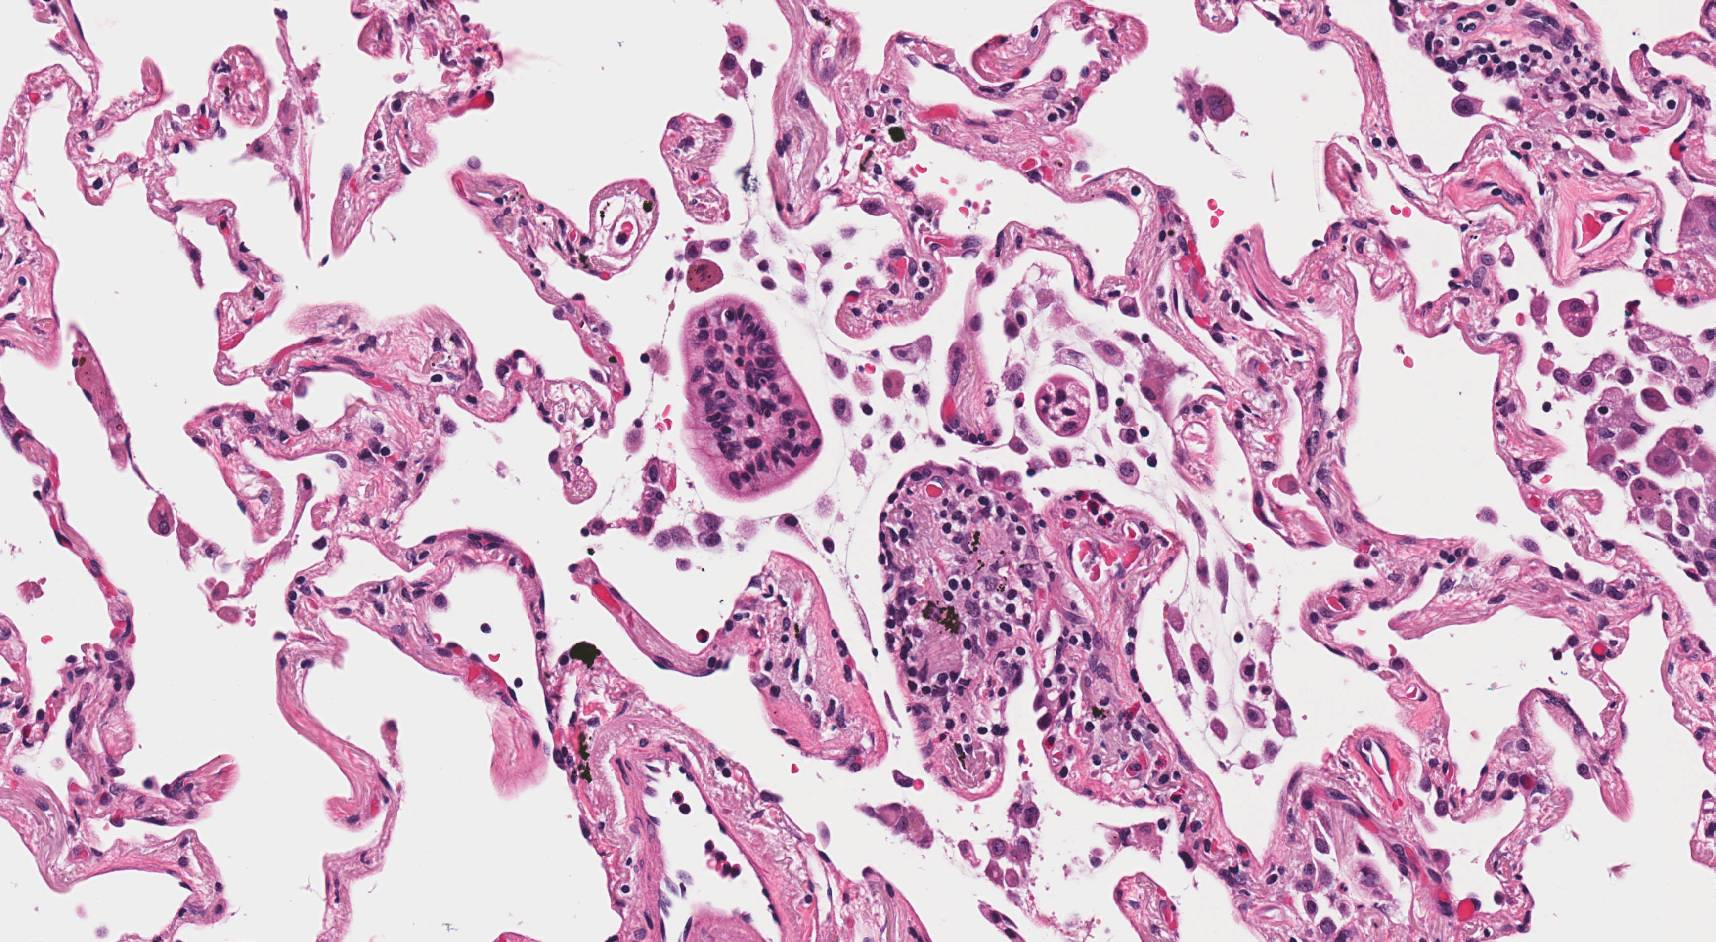stas: (678, 294, 821, 500)
